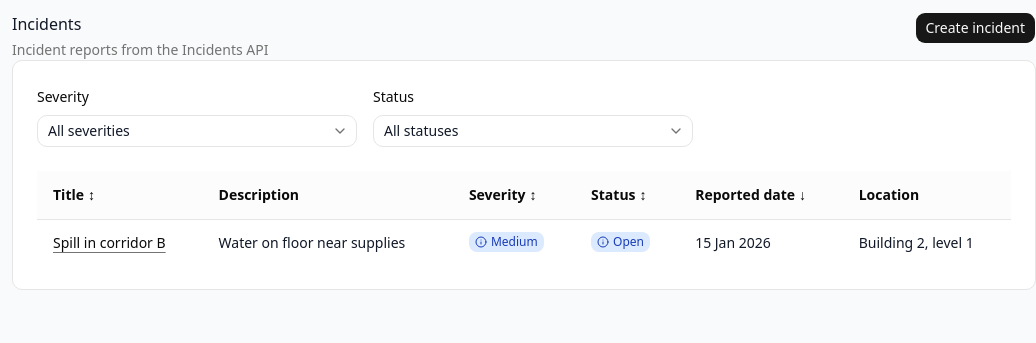
it: IncidentsView › keeps DataTable mounted and shows inline error alert when refetch rejects
expect the element named "Incidents list, scrollable" is shown: met, box x1=37 y1=171 x2=1011 y2=265
Click the dropdown named "Severity" at (89, 130), box x1=37 y1=115 x2=357 y2=147
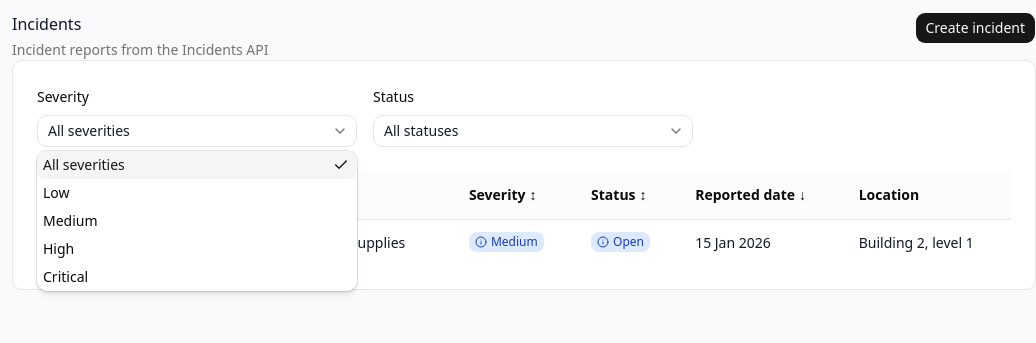
Click the option "High" at (59, 248), box x1=43 y1=239 x2=74 y2=258
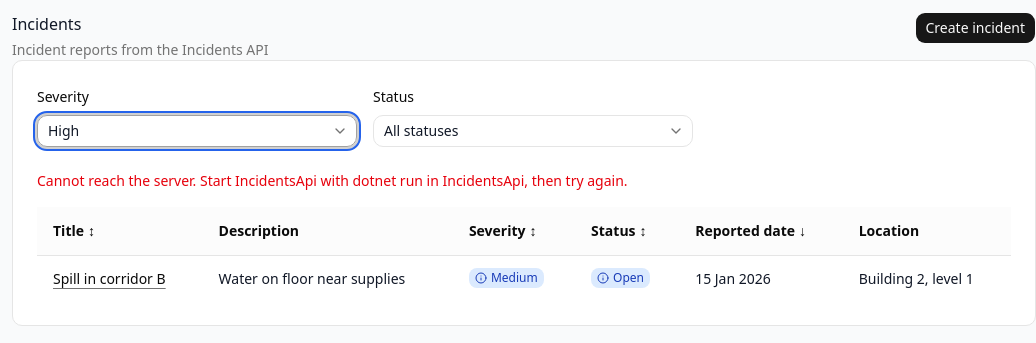
expect the element named "Incidents list, scrollable" is shown: met, box x1=37 y1=207 x2=1011 y2=301
expect the message shows "Cannot reach the server. Start IncidentsApi with dotnet run in IncidentsApi, then try again.": met, box x1=37 y1=171 x2=628 y2=190
